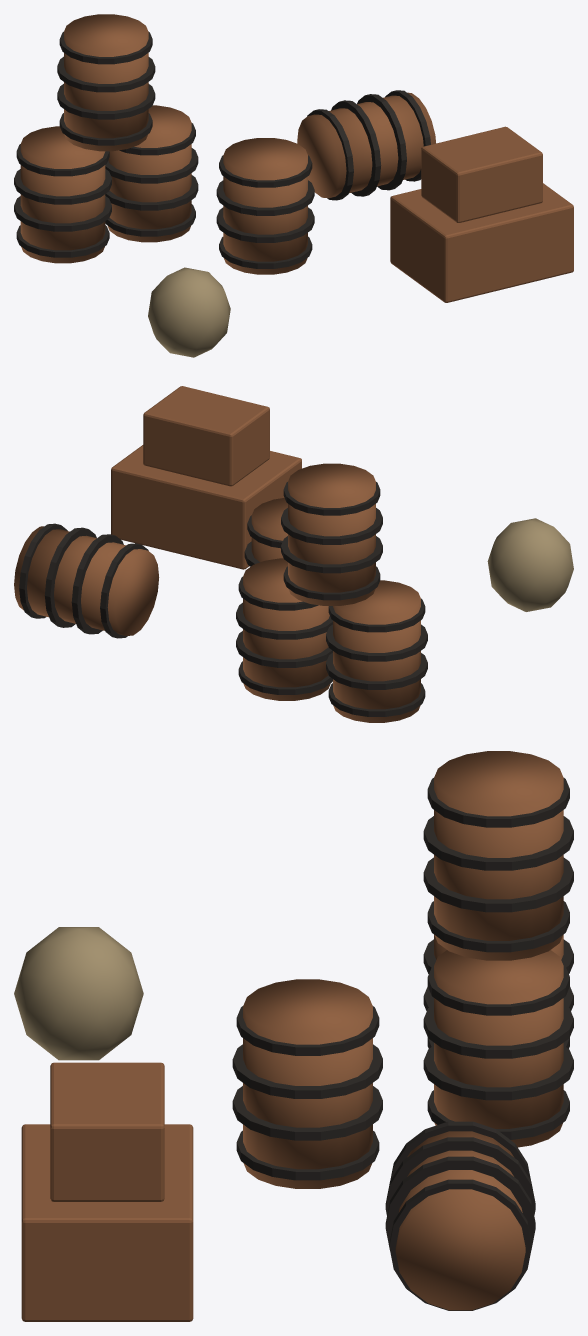
File: patio_cuervo.glb
3 renders of one model, top to bottom at view 1: azimuth 30°, elevation 25°; view 2: azimuth 150°, elevation 25°; view 3: azimuth 270°, elevation 25°, orthographic. The views are drawn at different scales.
Visible parts, largest first — view 1: caja, caja2, barril.002, barril.004, barril.003, barril, barril.001, saco, barril_aro.013, barril_aro.014, barril_aro.009, barril_aro.017 (+16 smaller); view 2: caja, caja2, barril.003, barril.002, barril, barril.001, saco, barril.004, barril_aro.013, barril_aro.014, barril_aro.009, barril_aro.002 (+12 smaller); view 3: caja, barril.002, barril.004, barril.001, caja2, barril.003, saco, barril_aro.014, barril_aro.005, barril_aro.006, barril_aro.009, barril_aro.015 (+11 smaller).
Boxes of the visible parts, x1,y1,x2,y2 form: caja: [390, 183, 573, 302]; caja2: [421, 126, 542, 222]; barril.002: [64, 14, 148, 151]; barril.004: [223, 138, 307, 274]; barril.003: [297, 92, 435, 198]; barril: [20, 126, 105, 263]; barril.001: [107, 105, 191, 242]; saco: [148, 267, 230, 357]; barril_aro.013: [331, 100, 381, 196]; barril_aro.014: [357, 94, 406, 190]; barril_aro.009: [57, 84, 155, 119]; barril_aro.017: [216, 207, 314, 242]; caja: [111, 445, 301, 569]; caja2: [143, 386, 269, 486]; barril.003: [14, 526, 159, 635]; barril.002: [288, 463, 375, 605]; barril: [333, 580, 420, 722]; barril.001: [243, 558, 330, 700]; saco: [487, 518, 573, 611]; barril.004: [251, 498, 287, 562]; barril_aro.013: [71, 534, 123, 634]; barril_aro.014: [44, 527, 96, 627]; barril_aro.009: [281, 536, 382, 573]; barril_aro.002: [326, 624, 427, 661]; caja: [21, 1124, 193, 1321]; barril.002: [434, 751, 563, 960]; barril.004: [243, 979, 372, 1188]; barril.001: [434, 950, 563, 1147]; caja2: [50, 1062, 164, 1201]; barril.003: [395, 1131, 525, 1310]; saco: [14, 927, 143, 1060]; barril_aro.014: [385, 1156, 535, 1249]; barril_aro.005: [423, 1045, 573, 1100]; barril_aro.006: [423, 1004, 573, 1058]; barril_aro.009: [423, 857, 573, 912]; barril_aro.015: [389, 1179, 531, 1310].
Size of the model in its own units: 3.72 by 1.85 by 2.93.
